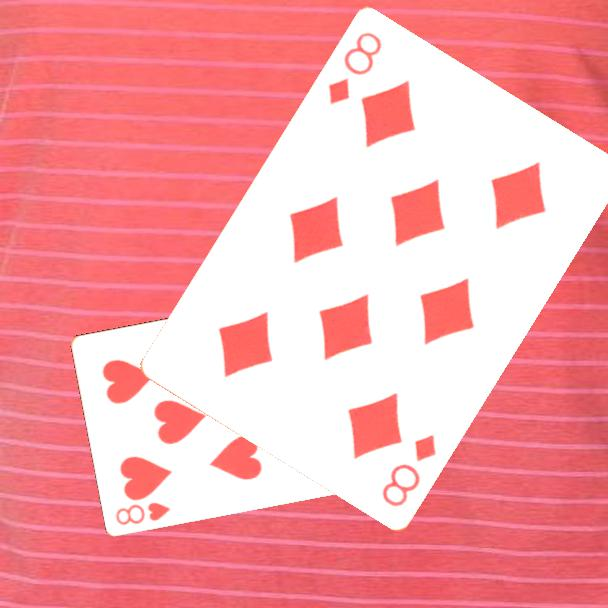d08: (378, 431, 439, 511), (324, 29, 385, 109)
h08: (112, 498, 173, 528)
